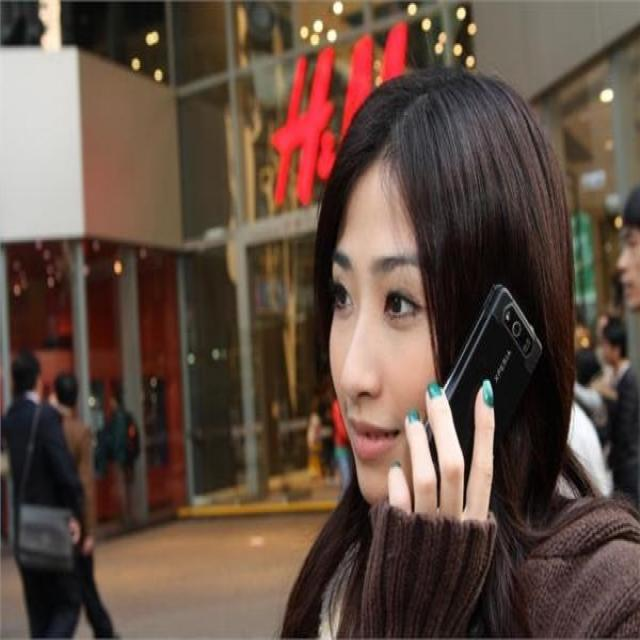phone: (372, 240, 545, 534)
